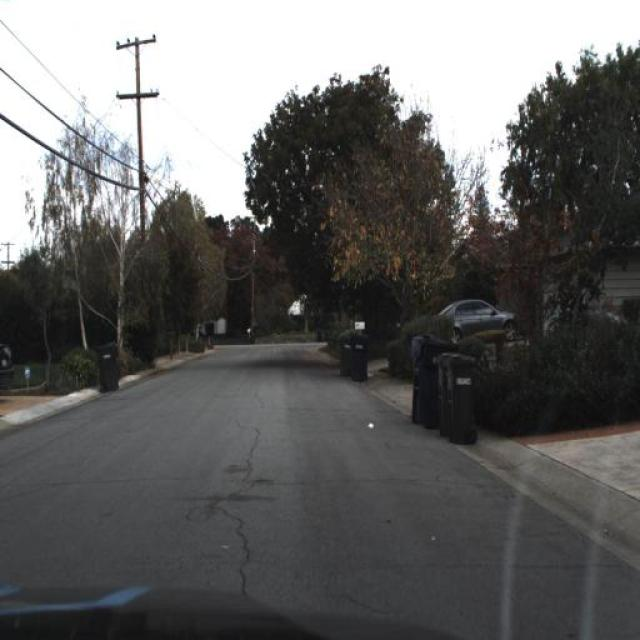car: (425, 289, 519, 350)
